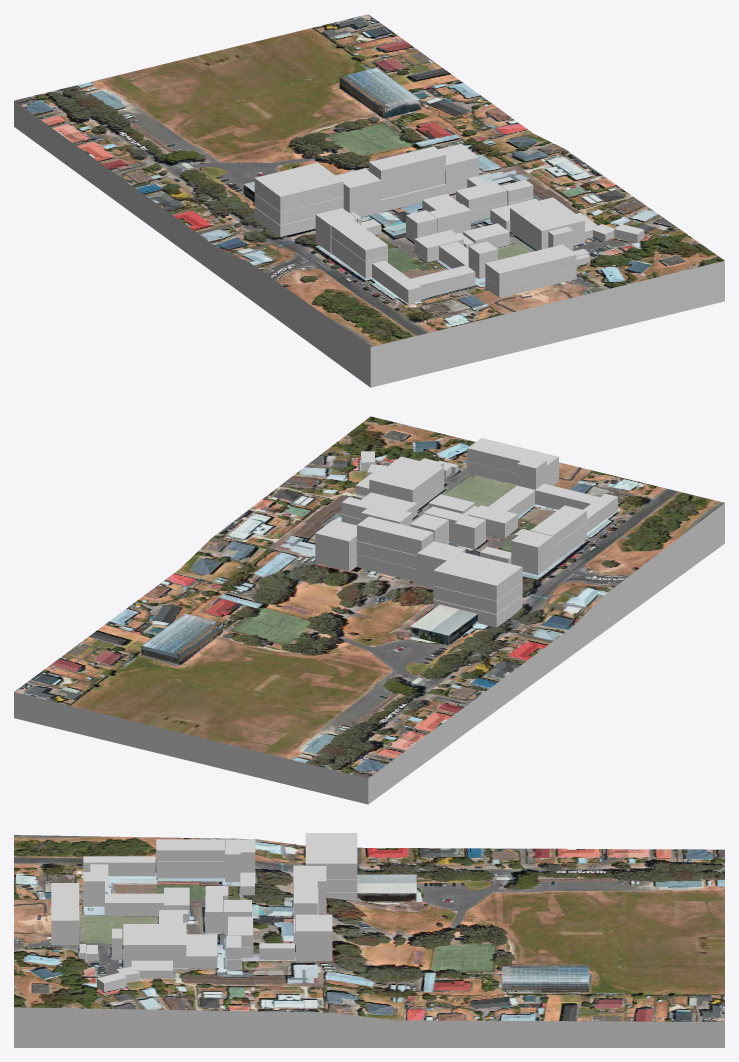
Rendered from scots.gltf.
3 renders of one model, top to bottom at view 1: azimuth 30°, elevation 25°; view 2: azimuth 150°, elevation 25°; view 3: azimuth 270°, elevation 25°, orthographic.
Visible parts, largest first — view 1: NewGround, CPACTop C11 GR2 GR1 AR2 AR3 AR1, Gym GYM11 GYM03 GYM02, Hodge HSC, Mckinnon MK11 mk12 mk13 mk14 mk15, AitkenTop 20 21 22, GRooms 14 13 02 04 03, PrepUpstairs P14 P13 P12 P11, ScienceBuilding SL11 SL12 SL2 SL1, PrepBlock2 P5 P6 P7 P8, CPACMiddle MR2 MR1 RS, PrepBlock1 M02 M03 (+13 smaller); view 2: NewGround, CPACTop C11 GR2 GR1 AR2 AR3 AR1, Gym GYM11 GYM03 GYM02, Hodge HSC, AitkenTop 20 21 22, ScienceBuilding SL11 SL12 SL2 SL1, Hall, Mckinnon MK11 mk12 mk13 mk14 mk15, PrepLibaray P9 P10 Library, CPACMiddle MR2 MR1 RS, PrepUpstairs P14 P13 P12 P11, GRooms 14 13 02 04 03 (+11 smaller); view 3: NewGround, Gym GYM11 GYM03 GYM02, Hodge HSC, CPACTop C11 GR2 GR1 AR2 AR3 AR1, ScienceBuilding SL11 SL12 SL2 SL1, Hall, PrepUpstairs P14 P13 P12 P11, Mckinnon MK11 mk12 mk13 mk14 mk15, PrepBlock3 P4 P3 P2 P1, PrepBlock1 M02 M03, PrepSchoolLower PSCI PVAD, Chatres (+15 smaller).
Part boxes in pixels (x1,y1,x2,y2): NewGround: (14, 14, 724, 387); CPACTop C11 GR2 GR1 AR2 AR3 AR1: (254, 162, 343, 212); Gym GYM11 GYM03 GYM02: (510, 197, 584, 250); Hodge HSC: (339, 67, 421, 118); Mckinnon MK11 mk12 mk13 mk14 mk15: (485, 244, 576, 286); AitkenTop 20 21 22: (369, 146, 445, 185); GRooms 14 13 02 04 03: (335, 168, 381, 217); PrepUpstairs P14 P13 P12 P11: (331, 220, 387, 261); ScienceBuilding SL11 SL12 SL2 SL1: (438, 144, 479, 194); PrepBlock2 P5 P6 P7 P8: (410, 265, 475, 298); CPACMiddle MR2 MR1 RS: (254, 194, 343, 225); PrepBlock1 M02 M03: (372, 260, 420, 303); NewGround: (14, 416, 724, 804); CPACTop C11 GR2 GR1 AR2 AR3 AR1: (433, 551, 522, 600); Gym GYM11 GYM03 GYM02: (369, 456, 444, 509); Hodge HSC: (141, 613, 222, 664); AitkenTop 20 21 22: (357, 516, 433, 555); ScienceBuilding SL11 SL12 SL2 SL1: (315, 520, 356, 571); Hall: (410, 604, 477, 645); Mckinnon MK11 mk12 mk13 mk14 mk15: (467, 438, 558, 477); PrepLibaray P9 P10 Library: (511, 530, 552, 575); CPACMiddle MR2 MR1 RS: (433, 582, 522, 614); PrepUpstairs P14 P13 P12 P11: (530, 505, 586, 546); GRooms 14 13 02 04 03: (417, 541, 465, 588); NewGround: (14, 835, 724, 1047); Gym GYM11 GYM03 GYM02: (123, 924, 186, 968); Hodge HSC: (501, 964, 588, 992); CPACTop C11 GR2 GR1 AR2 AR3 AR1: (305, 833, 357, 878); ScienceBuilding SL11 SL12 SL2 SL1: (295, 914, 332, 961); Hall: (357, 874, 416, 902); PrepUpstairs P14 P13 P12 P11: (156, 839, 224, 861); Mckinnon MK11 mk12 mk13 mk14 mk15: (51, 883, 79, 933); PrepBlock3 P4 P3 P2 P1: (104, 893, 163, 916); PrepBlock1 M02 M03: (83, 856, 155, 876); PrepSchoolLower PSCI PVAD: (156, 861, 224, 878); Chatres: (186, 934, 217, 968).
Size of the model in its own units: 181 by 37.7 by 315.
43 materials, 3 textured.
